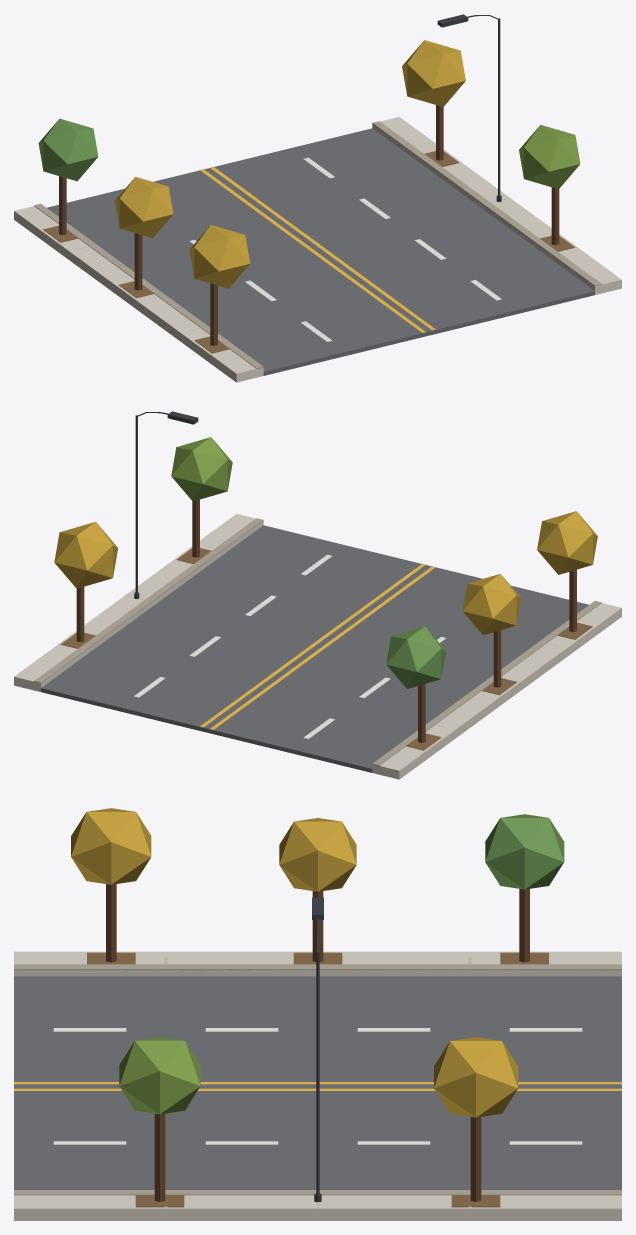
Rendered from Yol_cadde_agacli_Hafif.fbx.
The picture shows the model from 3 angles, top to bottom: view 1: azimuth 30°, elevation 25°; view 2: azimuth 150°, elevation 25°; view 3: azimuth 270°, elevation 25°; orthographic projection. The views are drawn at different scales.
Parts seen in each view (by area): view 1: Yol_cadde_agacli_Hafif; view 2: Yol_cadde_agacli_Hafif; view 3: Yol_cadde_agacli_Hafif.
Boxes of the visible parts, x1,y1,x2,y2 form: Yol_cadde_agacli_Hafif: (14, 14, 621, 382); Yol_cadde_agacli_Hafif: (14, 411, 621, 779); Yol_cadde_agacli_Hafif: (14, 808, 621, 1220).
Size of the model in its own units: 10.38 by 5.01 by 10.
